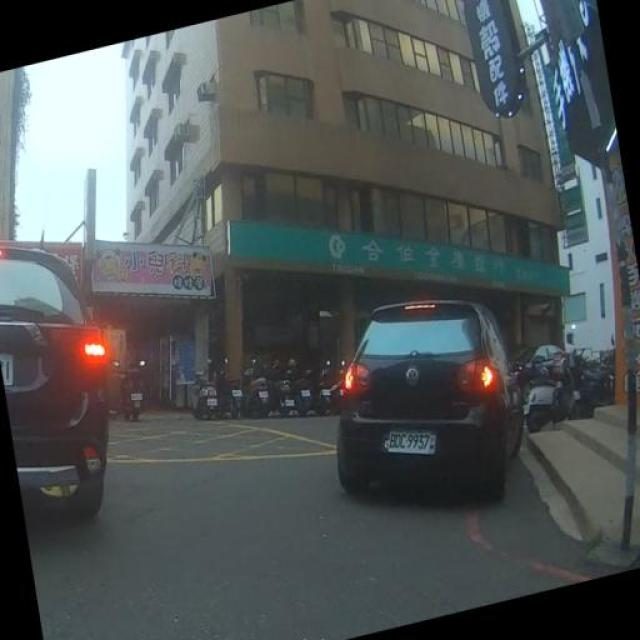illegalparking: (314, 286, 538, 552)
